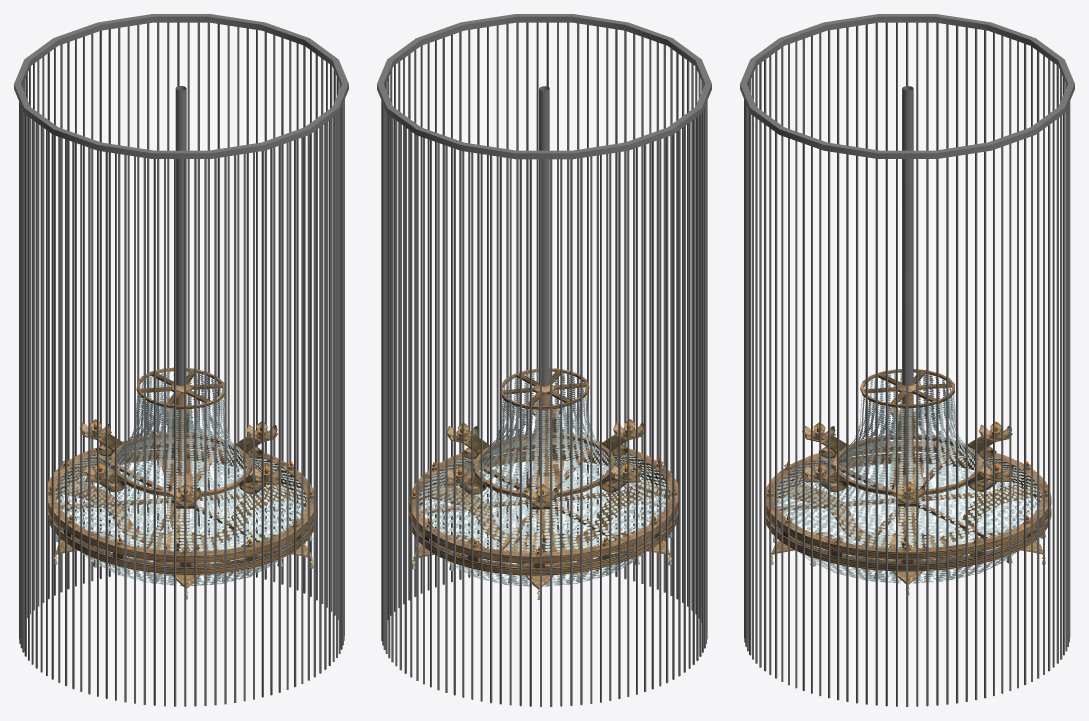
The model's file is Chandelier.fbx.
3 renders of one model, left to right at view 1: azimuth 30°, elevation 25°; view 2: azimuth 150°, elevation 25°; view 3: azimuth 270°, elevation 25°, orthographic.
Parts seen in each view (by area): view 1: Chandelier; view 2: Chandelier; view 3: Chandelier.
Boxes of the visible parts, left/top/right/bottom form: Chandelier: left=14, top=14, right=348, bottom=706; Chandelier: left=377, top=14, right=711, bottom=706; Chandelier: left=740, top=14, right=1074, bottom=706.
Bounding box in the file's own units: 2 × 3.71 × 2.03.
Materials: 2 (1 with a texture image).
